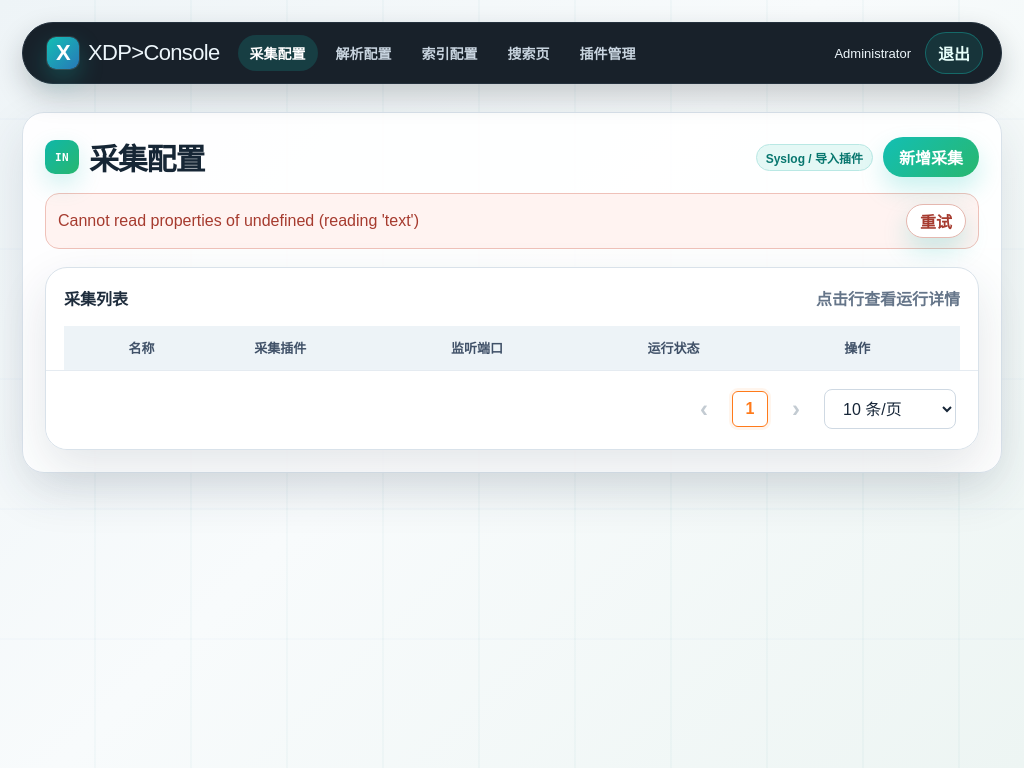
it: XDP index config API integration › blocks index submit when required TTL is empty
The image size is (1024, 768).
Click the button with test id "nav-index".
click(450, 53)  # box [410,35,490,71]
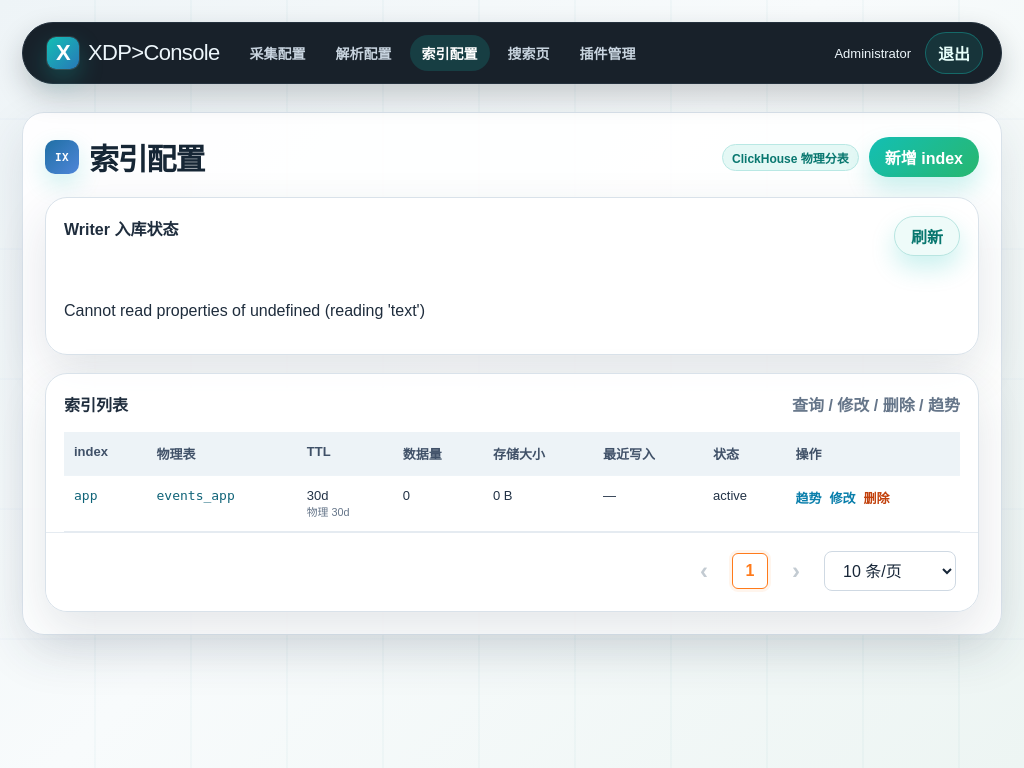
Click the button with test id "show-index-form".
click(924, 157)  # box [869,137,979,177]
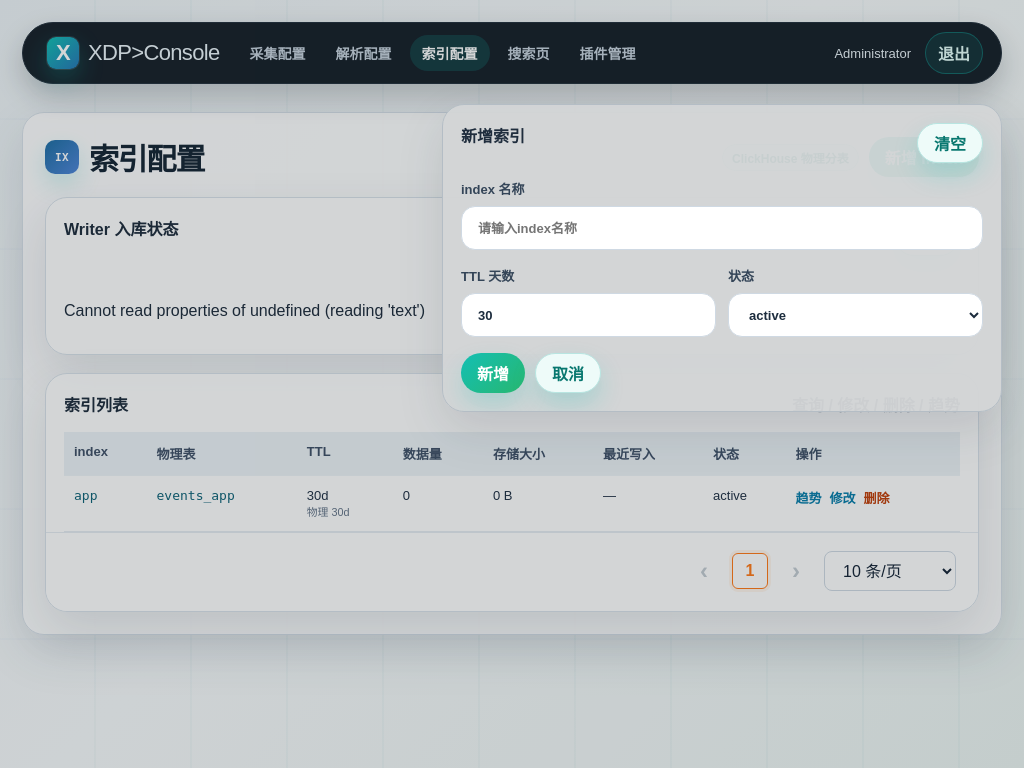
Type "audit_required" into the field with test id "index-name".
click(722, 228); type("audit_required")  # box [461,206,983,250]
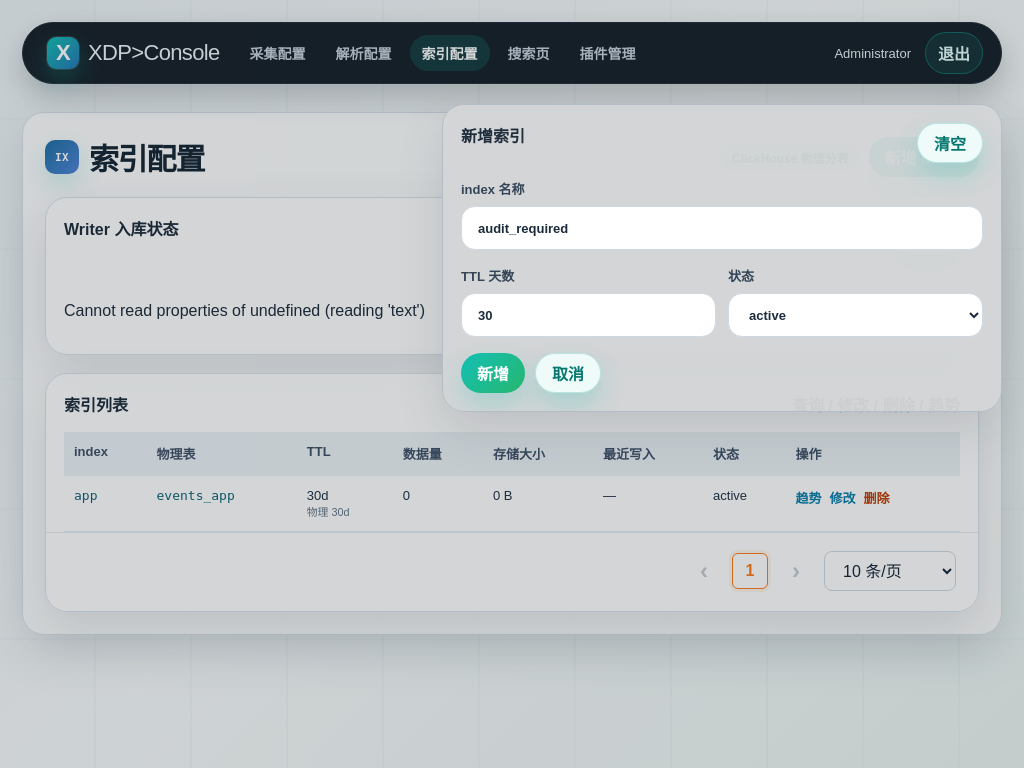
Clear the number field with test id "index-ttl" at (588, 315), box [461,293,716,337]
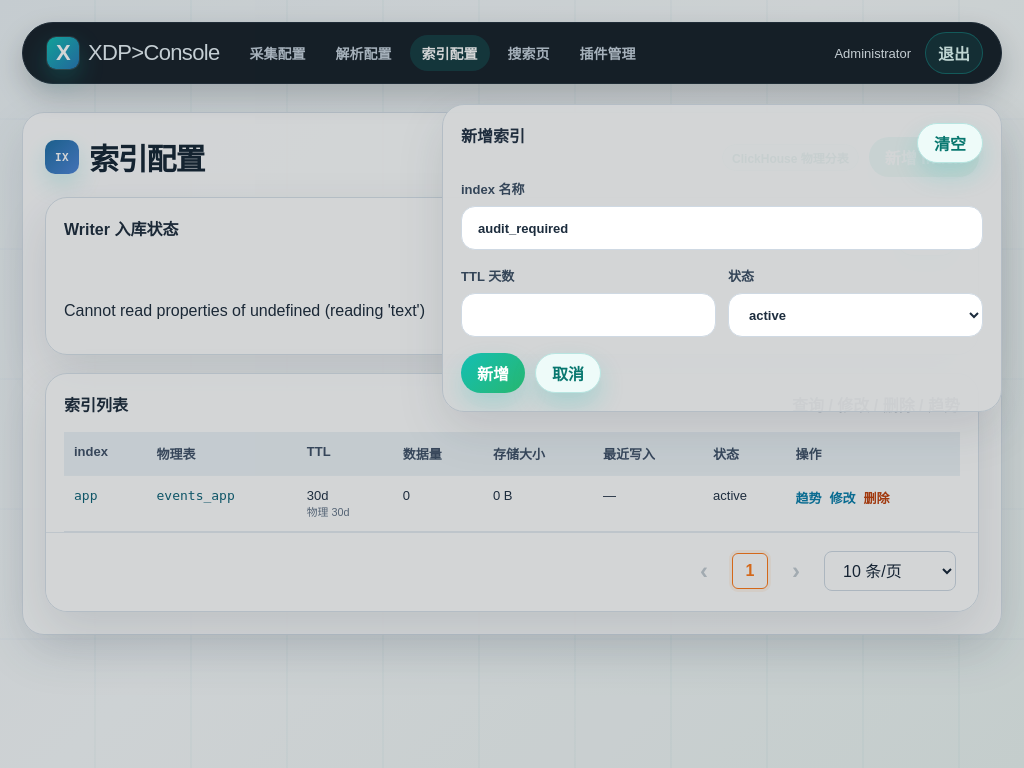
Submit the form, box [461,179,983,393]
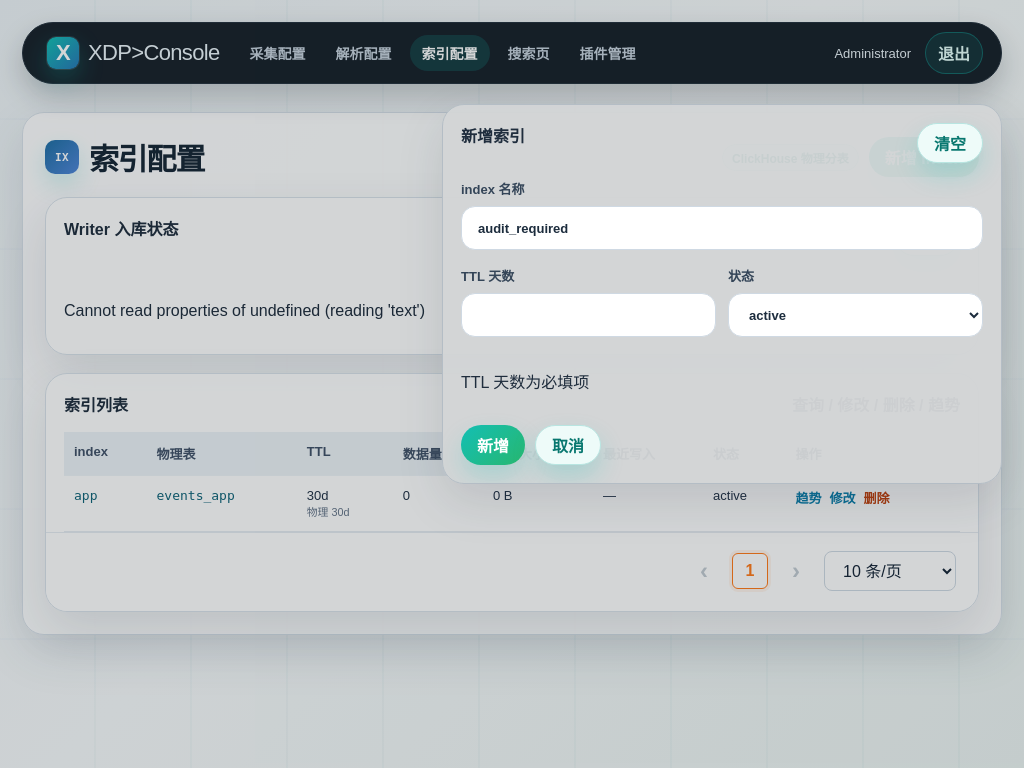
expect the text with test id "index-form-error" reads "TTL 天数为必填项": met, box [461,374,589,391]
